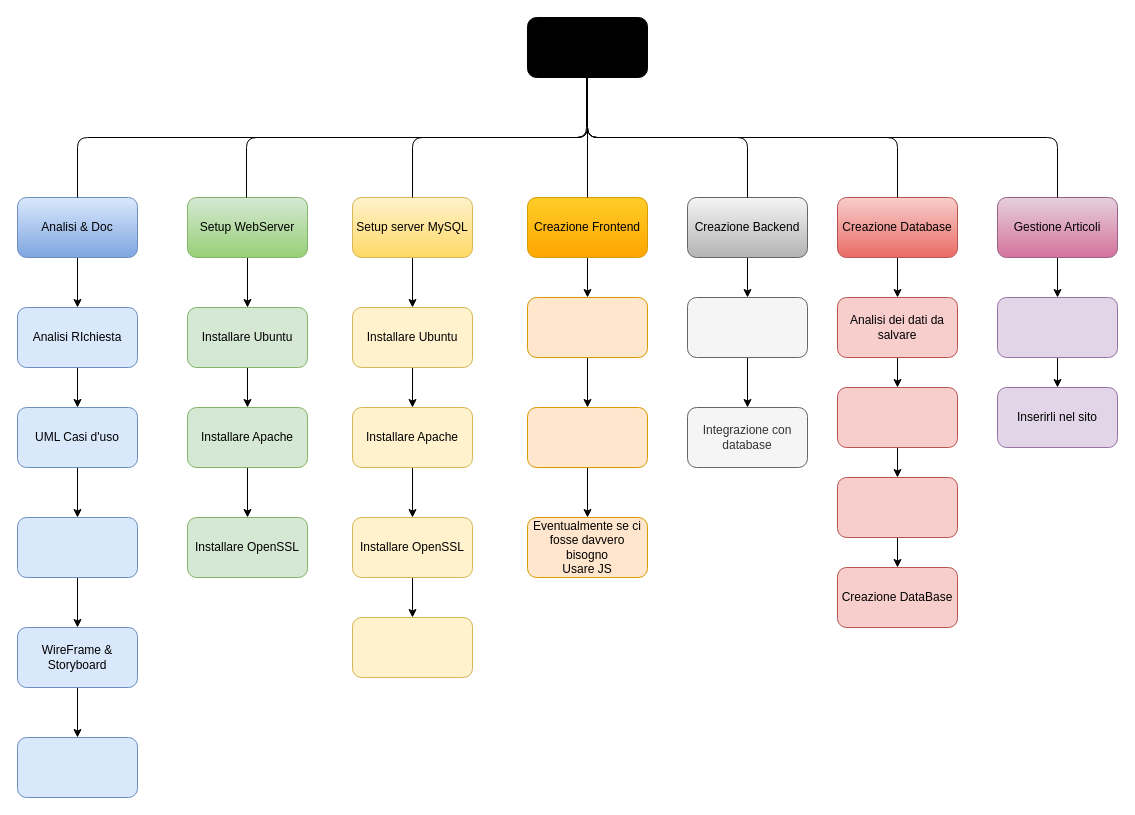
The diagram is 1135 pixels wide and 815 high, and some of its shapes have lost their labels. The shapes that lost their labels are listed below. From the top down, each one's box as (x1, y1, x2, y2) in pixels, then its label:
(526, 16, 648, 78): Progetto Wiki
(526, 296, 648, 358): Creare CSS
(686, 296, 808, 358): Servizio Web PHP
(996, 296, 1118, 358): scrittura articoli
(526, 406, 648, 468): Creare pagine statiche
(836, 386, 958, 448): Schema ER
(836, 476, 958, 538): Schema logico
(16, 516, 138, 578): Documentazione
(352, 616, 472, 678): Installare MySQL
(16, 736, 138, 798): UML Classi/Componenti
